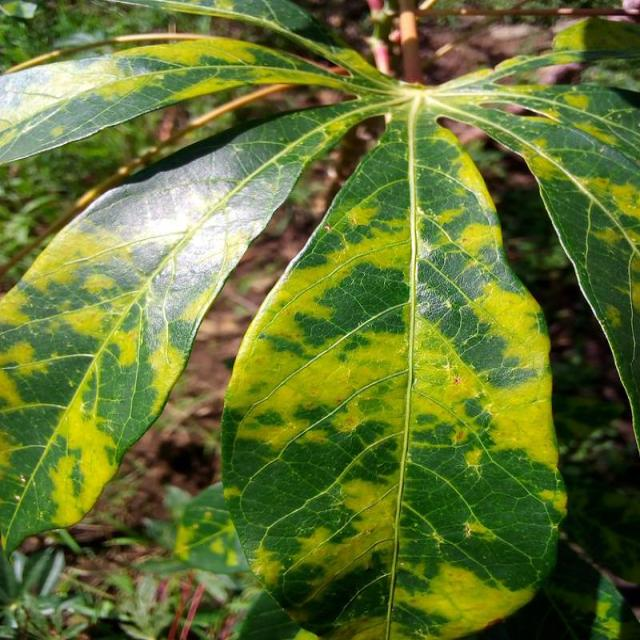cassava leaf: (218, 98, 568, 638), (0, 94, 370, 558)
